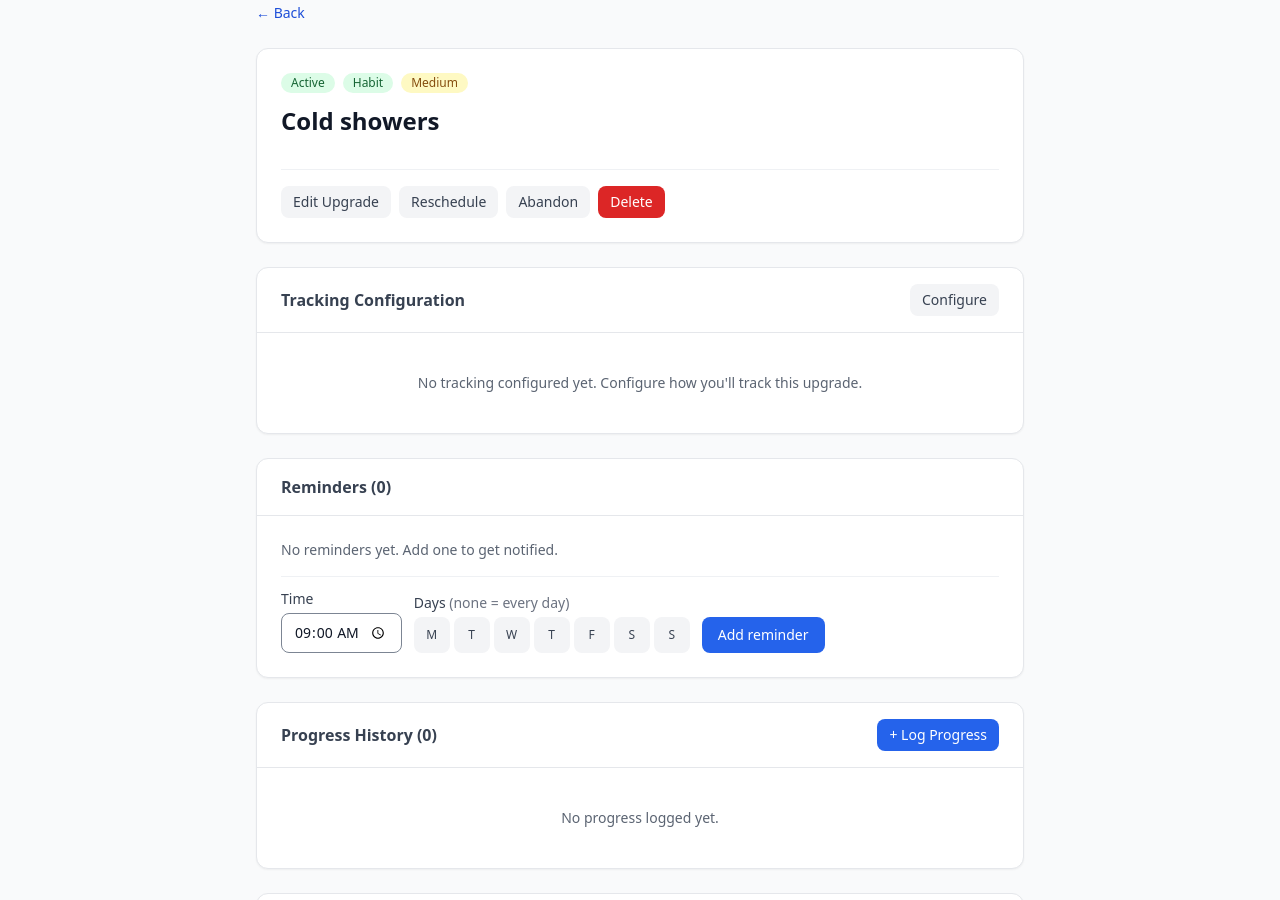
Test: UpgradeDetailsPage › GivenASaveStillInFlightForOneUpgrade_WhenTheUserMovesToAnother_ThenItLeavesTheOtherUpgradesDialogAlone
Expected: the heading "Cold showers" is shown, top-left (281, 104), bottom-right (440, 137)
Click the button "+ Log Progress": (938, 735) top-left (877, 719), bottom-right (999, 751)
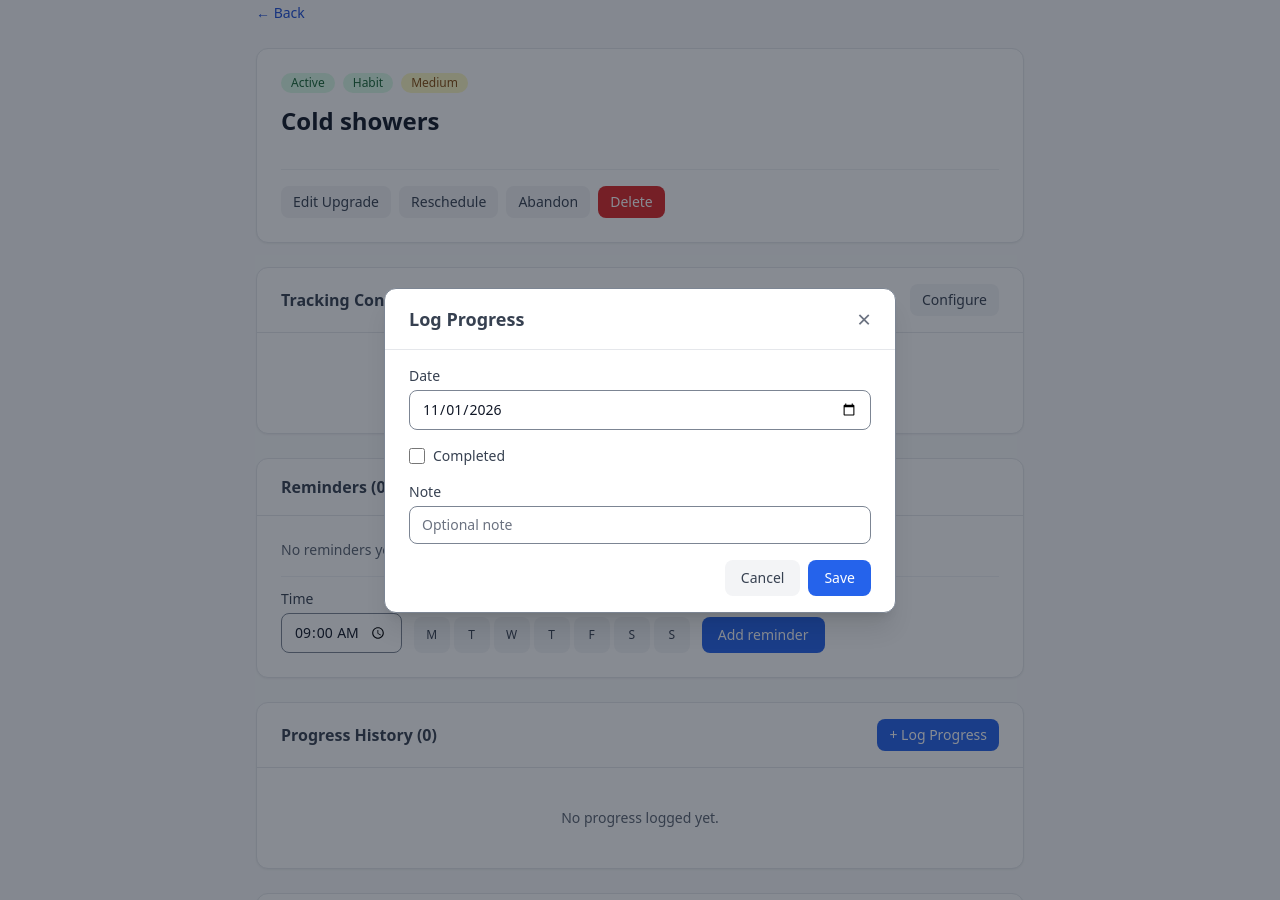
Submit the form from the button "Save", box top-left (808, 560), bottom-right (871, 596)
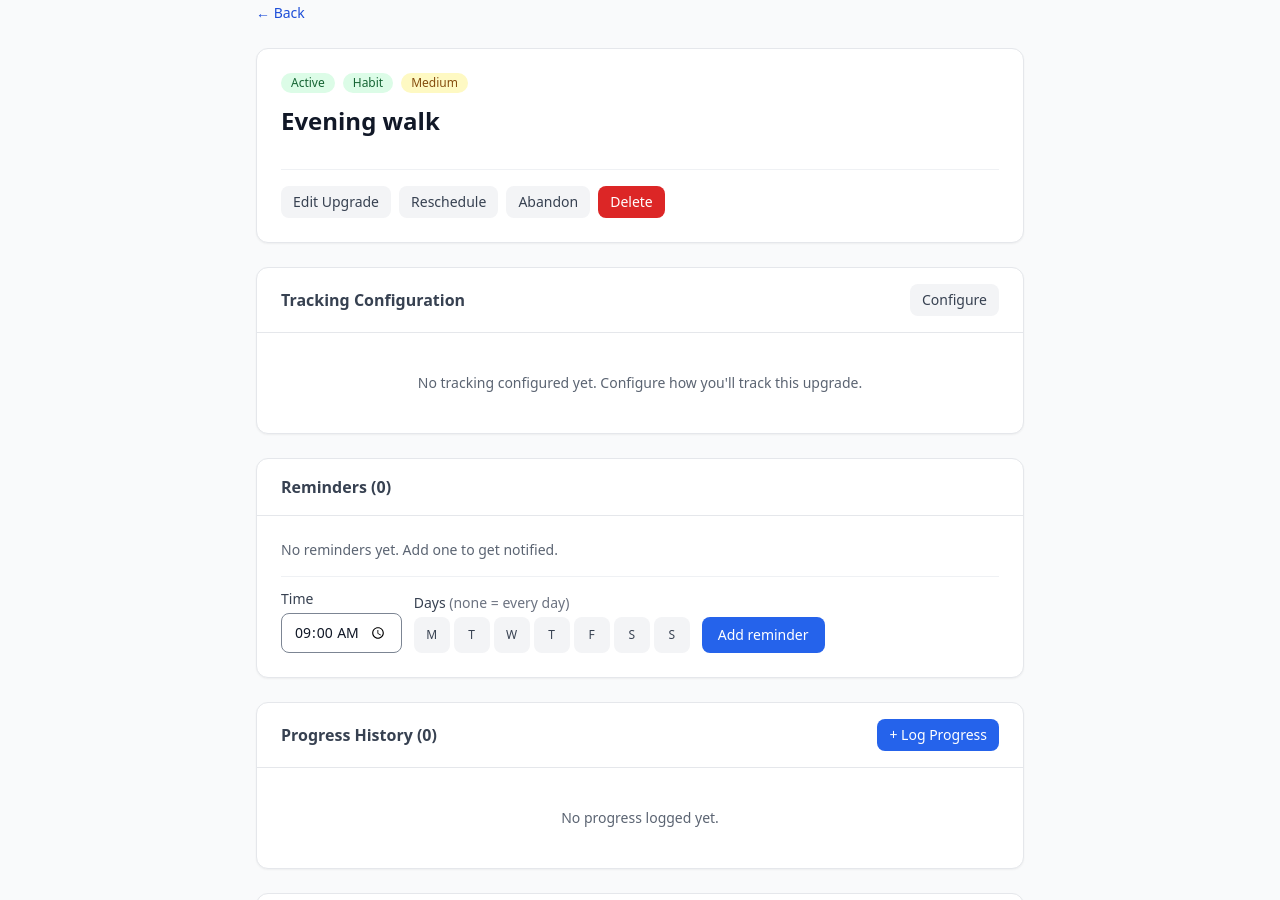
Expected: the heading "Evening walk" is shown, top-left (281, 104), bottom-right (440, 137)
Click the button "+ Log Progress": (938, 735) top-left (877, 719), bottom-right (999, 751)
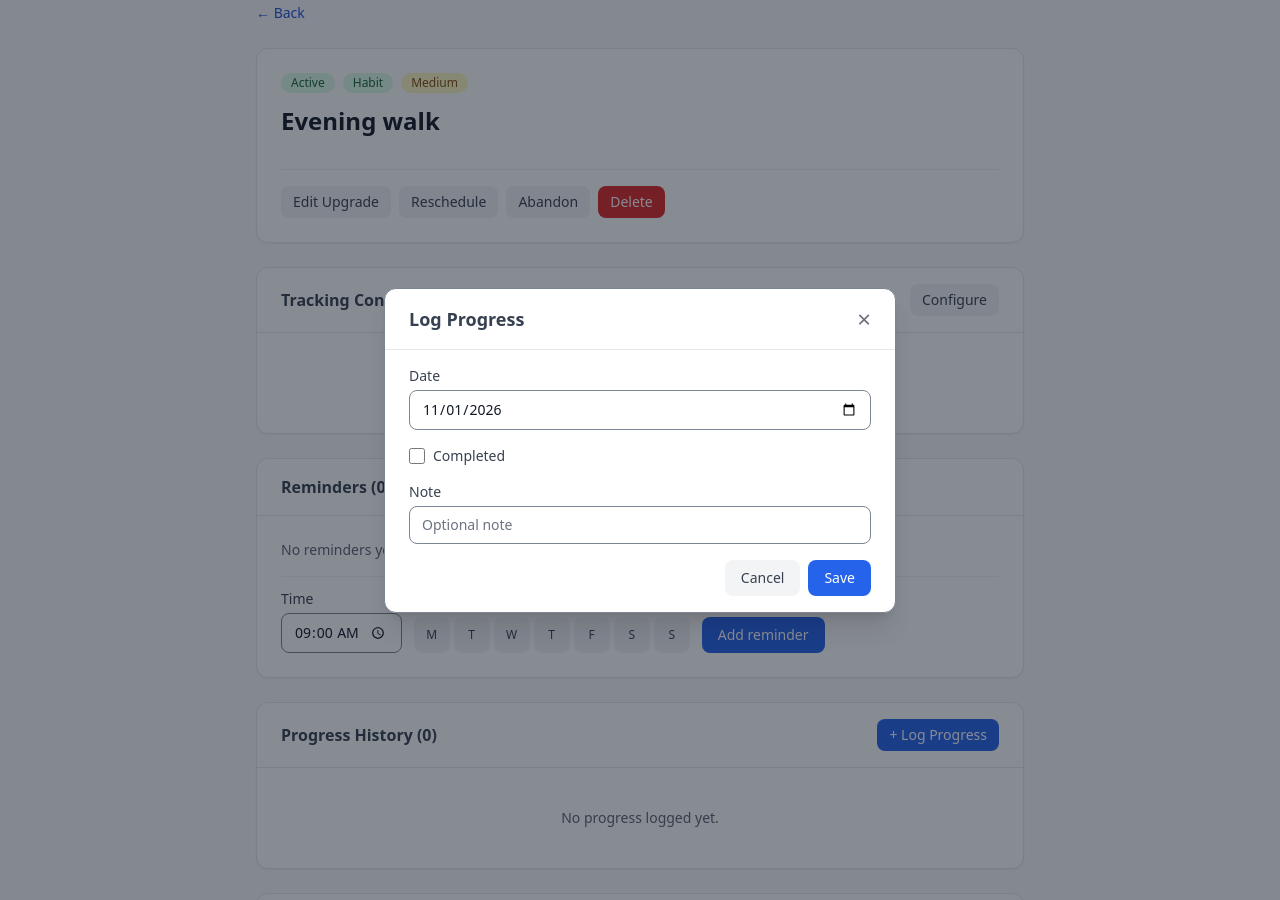
Expected: the dialog "Log Progress" is shown, top-left (384, 288), bottom-right (896, 612)
